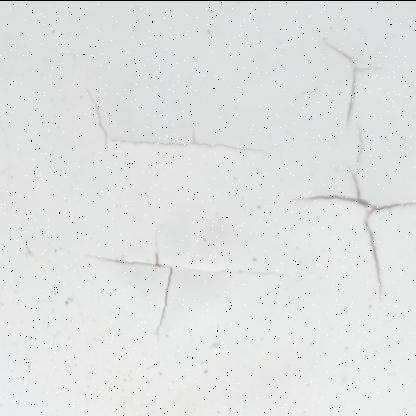Crack: (288, 14, 416, 322), (67, 226, 286, 348), (68, 76, 274, 176)
